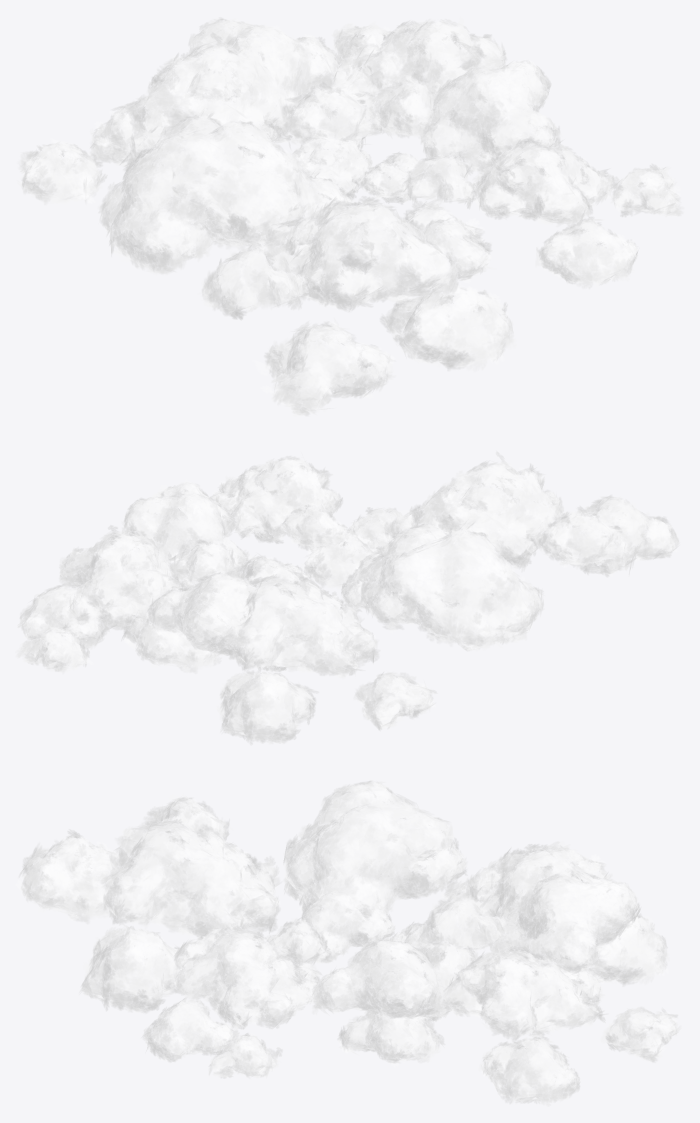
The picture shows the model from 3 angles, top to bottom: view 1: azimuth 30°, elevation 25°; view 2: azimuth 150°, elevation 25°; view 3: azimuth 270°, elevation 25°; orthographic projection. The views are drawn at different scales.
Parts seen in each view (by area): view 1: Plane008_Cloud_0, Plane005_Cloud_0, Plane006_Cloud_0, Plane007_Cloud_0, Plane004_Cloud_0; view 2: Plane008_Cloud_0, Plane006_Cloud_0, Plane007_Cloud_0, Plane005_Cloud_0, Plane004_Cloud_0; view 3: Plane008_Cloud_0, Plane007_Cloud_0, Plane005_Cloud_0, Plane006_Cloud_0, Plane004_Cloud_0.
Part boxes in pixels (x1,y1,x2,y2): Plane008_Cloud_0: (98, 114, 516, 416); Plane005_Cloud_0: (399, 60, 683, 288); Plane006_Cloud_0: (17, 32, 394, 250); Plane007_Cloud_0: (188, 16, 562, 174); Plane004_Cloud_0: (292, 137, 418, 218); Plane008_Cloud_0: (300, 451, 679, 651); Plane006_Cloud_0: (121, 523, 505, 745); Plane007_Cloud_0: (15, 525, 263, 673); Plane005_Cloud_0: (122, 454, 401, 584); Plane004_Cloud_0: (257, 551, 383, 672); Plane008_Cloud_0: (16, 780, 453, 1013); Plane007_Cloud_0: (337, 873, 680, 1106); Plane005_Cloud_0: (141, 918, 451, 1078); Plane006_Cloud_0: (283, 804, 669, 1037); Plane004_Cloud_0: (295, 890, 484, 1021).
Bounding box in the file's own units: 53.64 × 16.48 × 64.96.
Materials: 1 (1 with a texture image).
